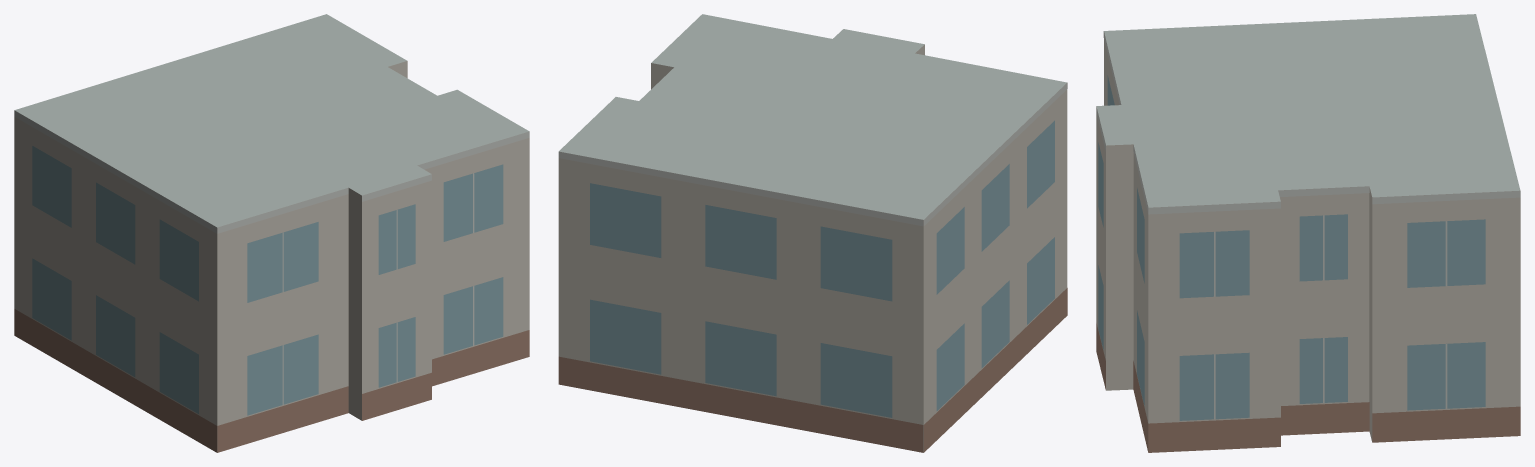
Rendered from survey-upis-32943931.glb.
The picture shows the model from 3 angles, left to right: view 1: azimuth 30°, elevation 25°; view 2: azimuth 150°, elevation 25°; view 3: azimuth 270°, elevation 25°; orthographic projection. The views are drawn at different scales.
Visible parts, largest first — view 1: survey-upis-32943931.tmp; view 2: survey-upis-32943931.tmp; view 3: survey-upis-32943931.tmp.
Part boxes in pixels (<box>): survey-upis-32943931.tmp: <box>14,14,529,452</box>; survey-upis-32943931.tmp: <box>558,14,1067,452</box>; survey-upis-32943931.tmp: <box>1096,14,1520,452</box>.
Bounding box in the file's own units: 14.71 × 8.68 × 13.62.
